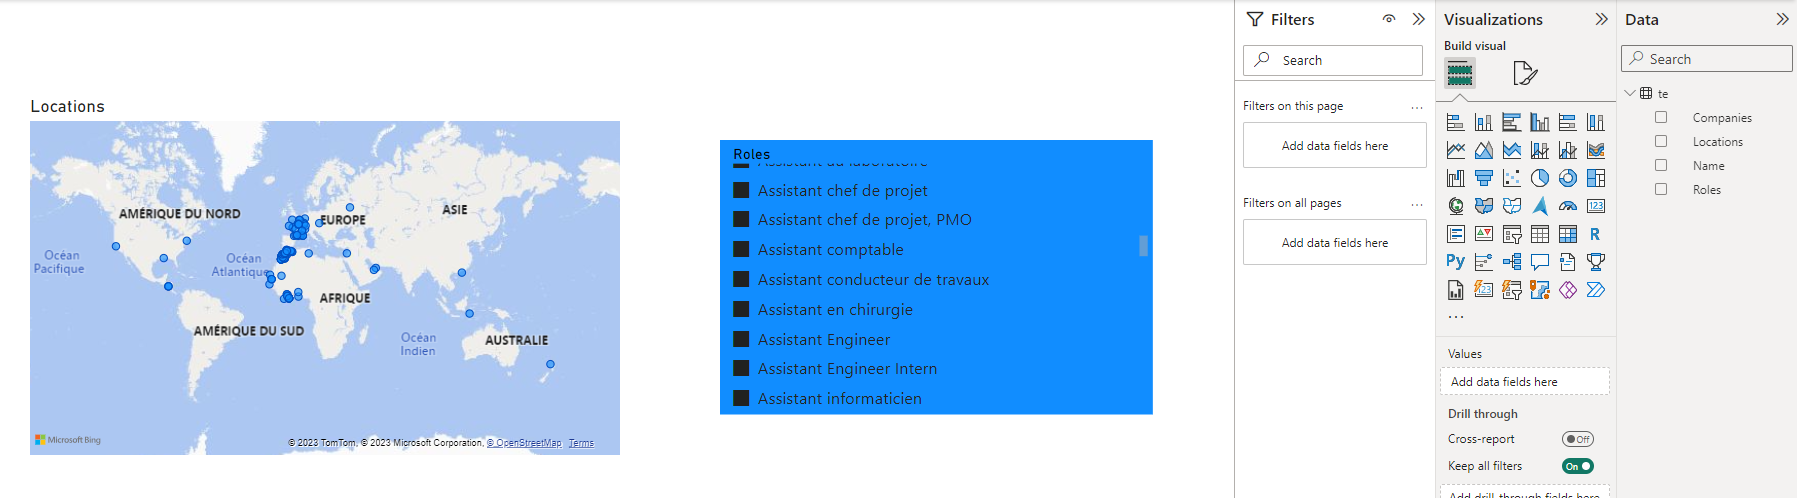

The page's visual inventory and layout, read from the dashboard file:
{"tool":"powerbi","page":{"name":"Page 1","canvas":[1280,720],"ordinal":0},"visuals":[{"type":"map","fields":{"Category":["te.Locations"]},"box":[104.1,93.4,583.6,354],"z":0},{"type":"slicer","fields":{"Values":["te.Roles"]},"box":[780.1,136.2,421.2,267.5],"z":1}]}

Visuals, with their boxes on the page's 1280x720 design canvas (x1, y1, x2, y2). These are canvas units, not pixel positions in the 1797x498 screenshot, which may show the page scaled, cropped or inside an application window:
map - te.Locations: [104,93,688,447]
slicer - te.Roles: [780,136,1201,404]
